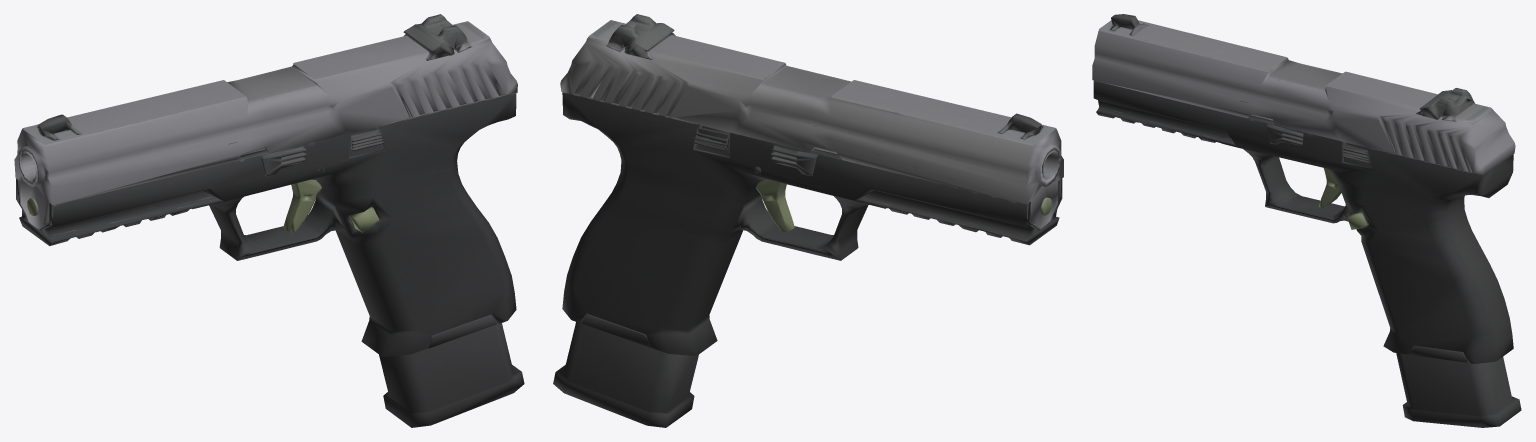
File: pst_hailstorm.glb
3 views of the same model, side by side, from view 1: azimuth 30°, elevation 25°; view 2: azimuth 150°, elevation 25°; view 3: azimuth 330°, elevation 25° (orthographic). The views are drawn at different scales.
Size of the model in its own units: 0.9575 by 0.729 by 0.144.
Materials: 1 (1 with a texture image).
